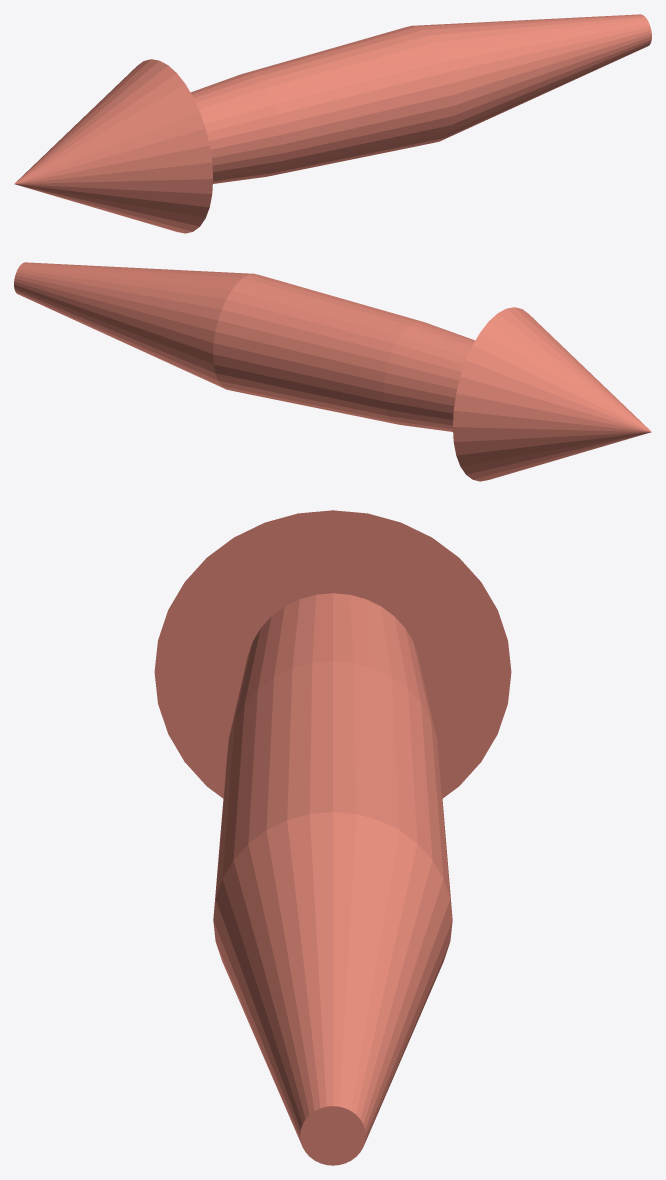
Rendered from Arrow.glb.
The picture shows the model from 3 angles, top to bottom: view 1: azimuth 30°, elevation 25°; view 2: azimuth 150°, elevation 25°; view 3: azimuth 270°, elevation 25°; orthographic projection. The views are drawn at different scales.
Visible parts, largest first — view 1: Arrow; view 2: Arrow; view 3: Arrow.
Part boxes in pixels (left/top/right/bottom): Arrow: left=14, top=14, right=651, bottom=233; Arrow: left=14, top=262, right=651, bottom=481; Arrow: left=154, top=510, right=511, bottom=1165.
Bounding box in the file's own units: 8.15 × 2 × 2.
